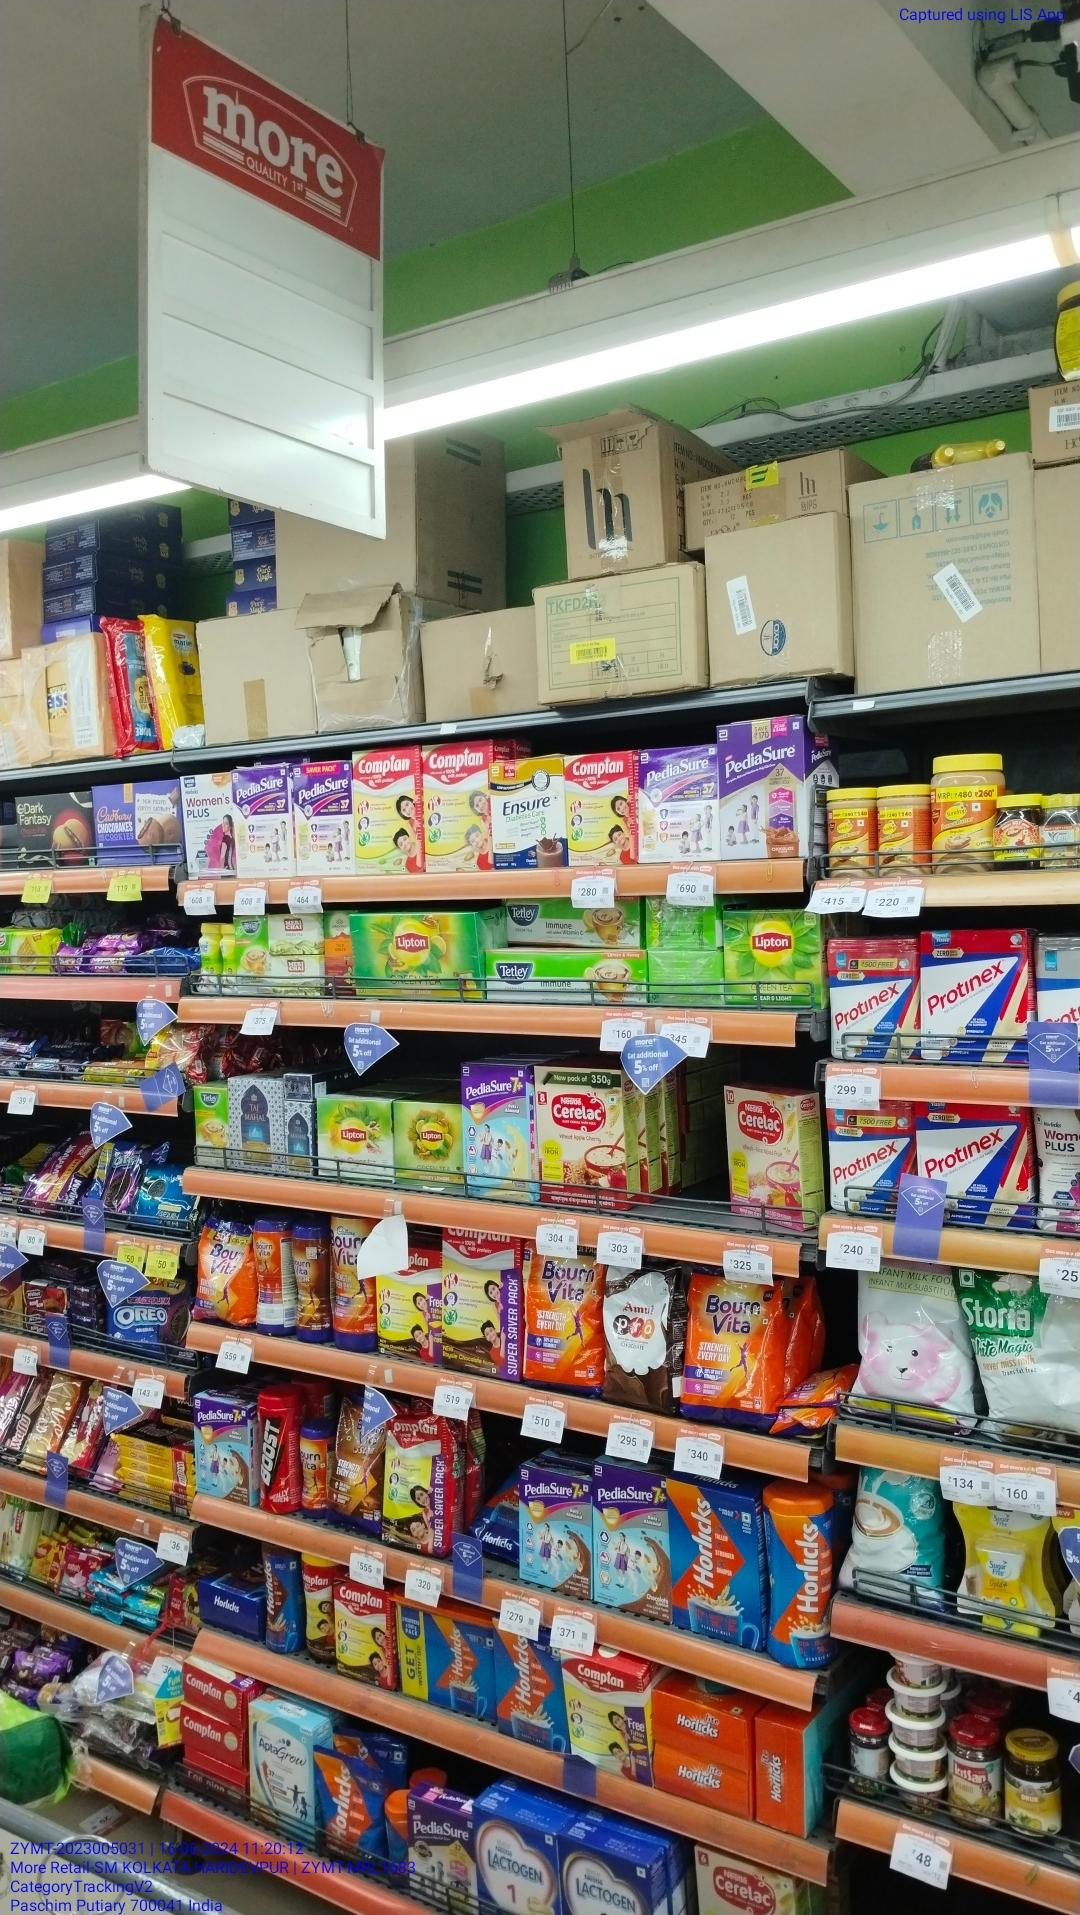HORLICK_MALT_1_KG_CONTAINER: (396, 1594, 491, 1719)
PEDIASURE_7_PLUS_CHOCOLATE_400_G_PACK: (516, 1480, 596, 1601), (197, 1403, 254, 1499)
PEDIASURE_VANILLA_500_G_PACK: (408, 1782, 474, 1914)
PROTINEX_CHOCOLATE_400_G_JAR: (833, 1103, 916, 1213)
PROTINEX_VANILLA_400_G_JAR: (830, 936, 921, 1060)
